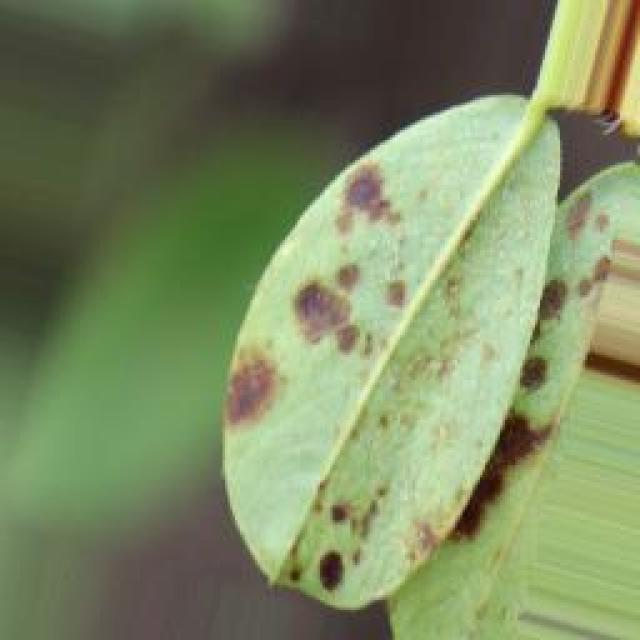Whitefly: (202, 136, 629, 605)
